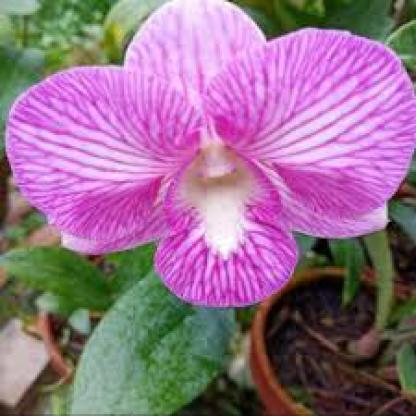ANGGREK: (9, 7, 416, 314)
